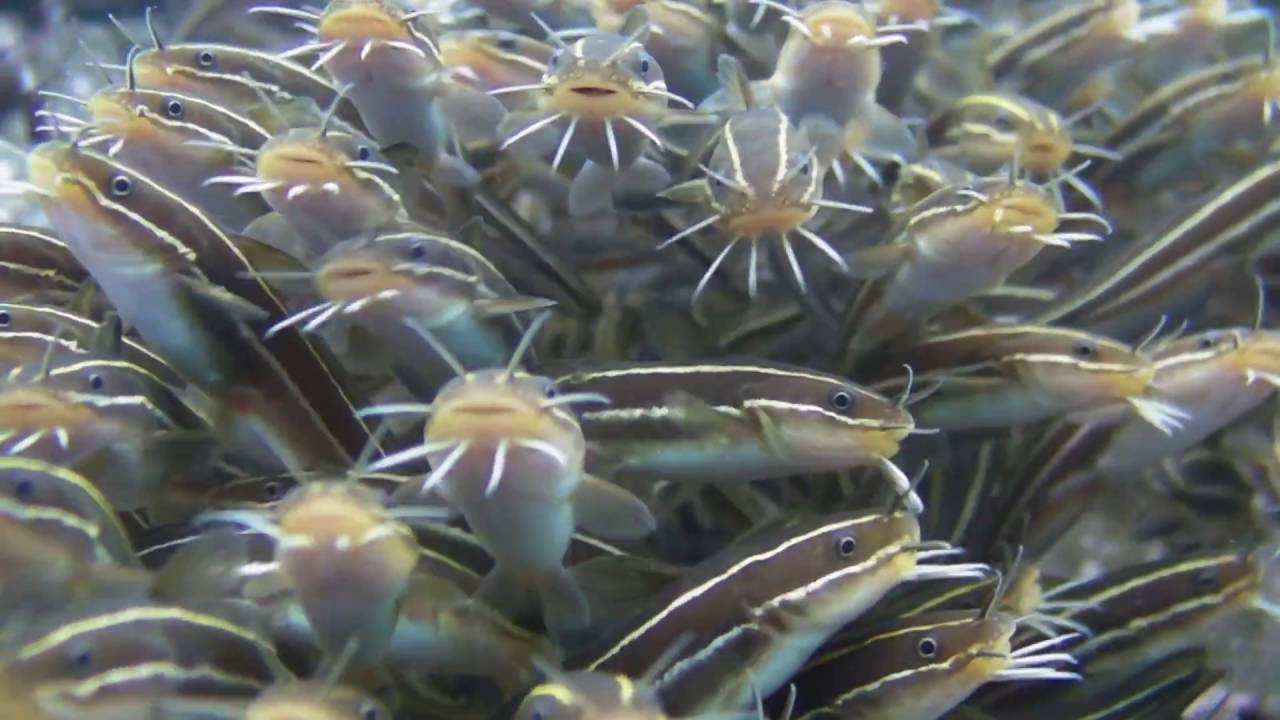gonzui: (578, 498, 928, 720), (584, 355, 914, 473)
